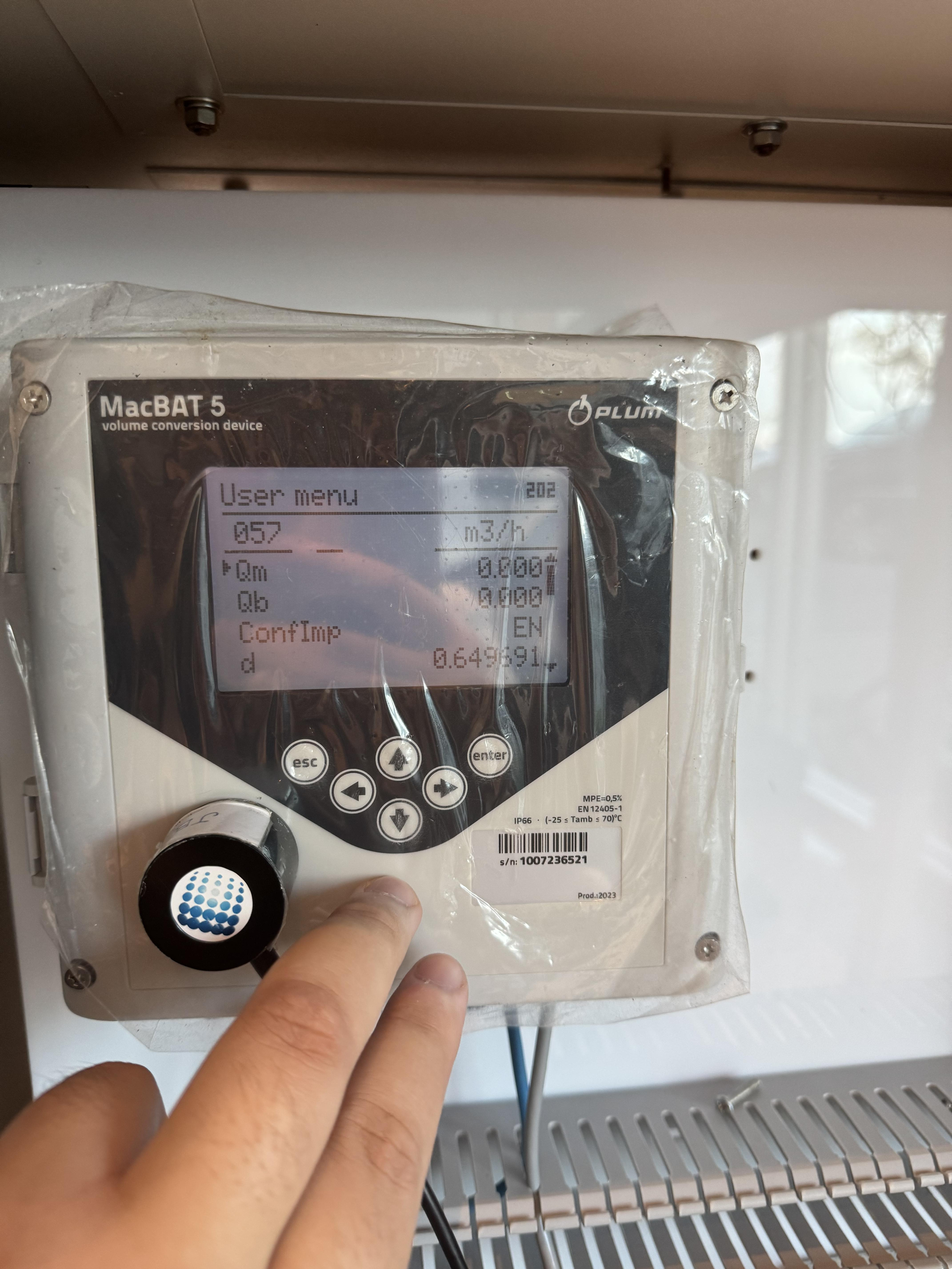digital_screen: (206, 467, 570, 692)
